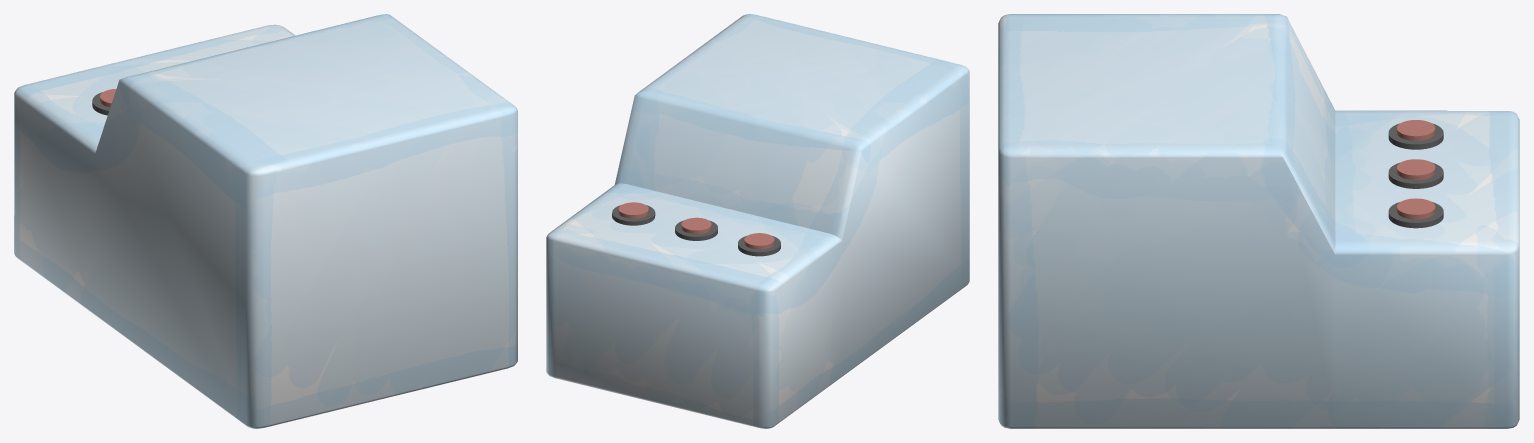
File: WallConsole.fbx
3 renders of one model, left to right at view 1: azimuth 30°, elevation 25°; view 2: azimuth 150°, elevation 25°; view 3: azimuth 270°, elevation 25°, orthographic. The views are drawn at different scales.
Visible parts, largest first — view 1: Console; view 2: Console; view 3: Console.
Part boxes in pixels (x1,y1,x2,y2): Console: [14, 14, 517, 428]; Console: [546, 14, 969, 428]; Console: [998, 14, 1519, 428].
Bounding box in the file's own units: 4339 × 4000 × 6731.
Materials: 1 (1 with a texture image).
